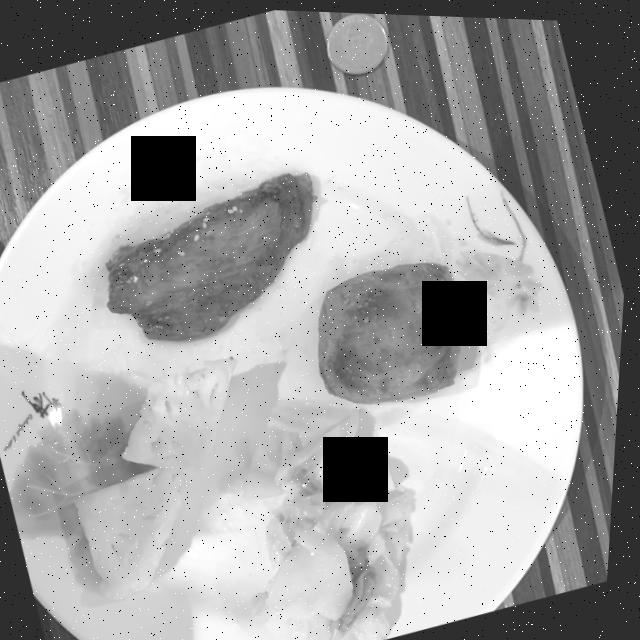Kabayaki sea bream fillet: (109, 170, 316, 339)
cabbage: (249, 405, 420, 640)
coin: (327, 10, 388, 71)
creamy tofu: (322, 258, 465, 401)
pineapple: (81, 355, 241, 598)
